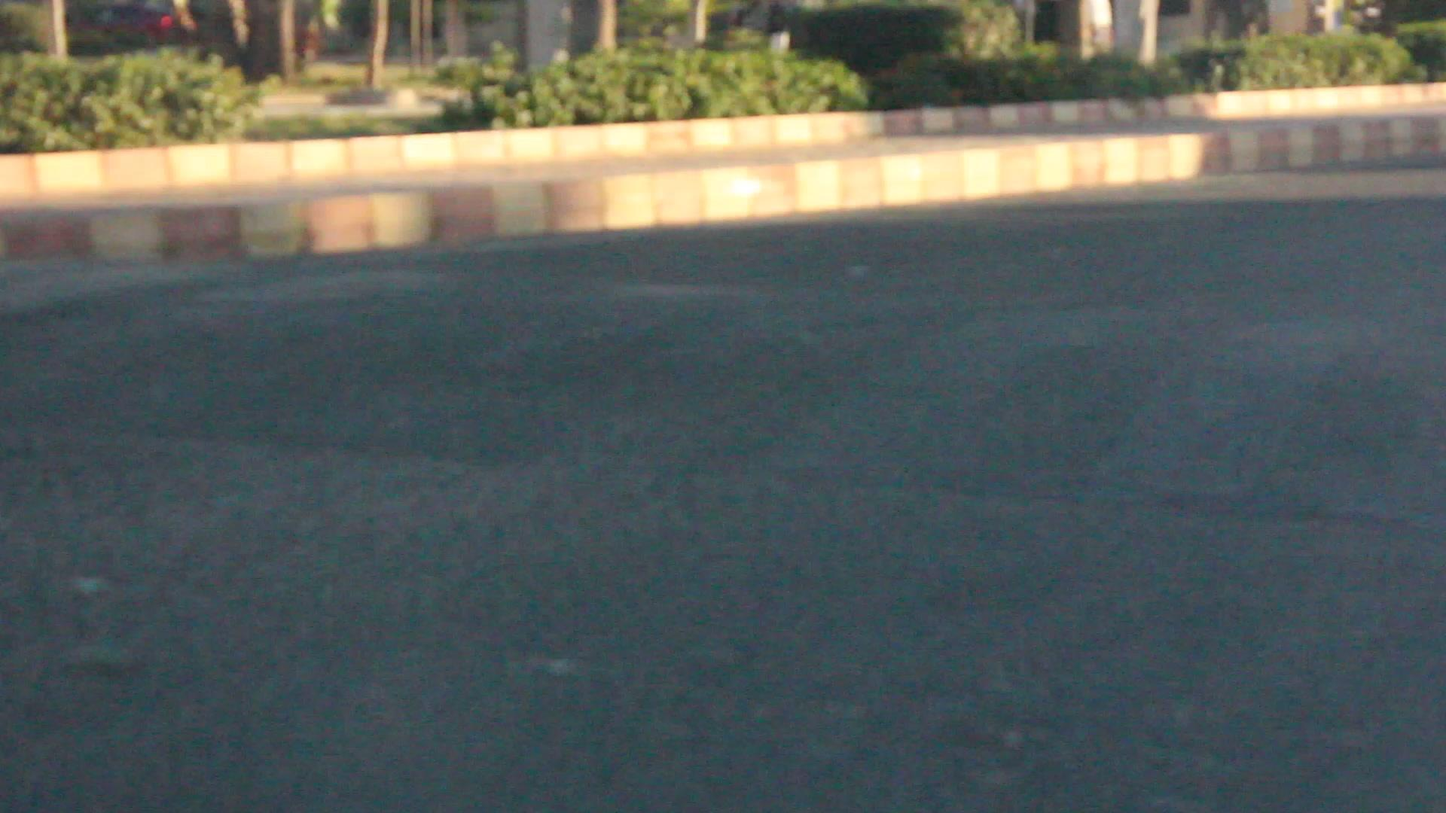Bump: (0, 259, 1445, 533)
